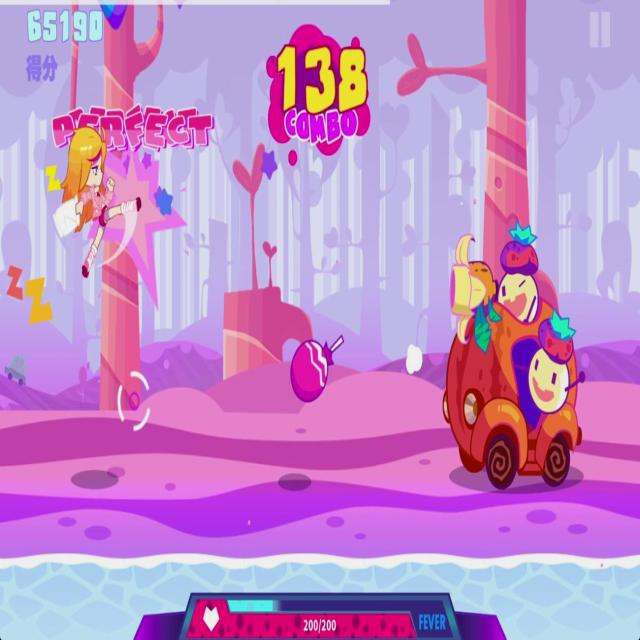cheboss: (442, 215, 588, 492)
tang: (289, 325, 347, 407)
